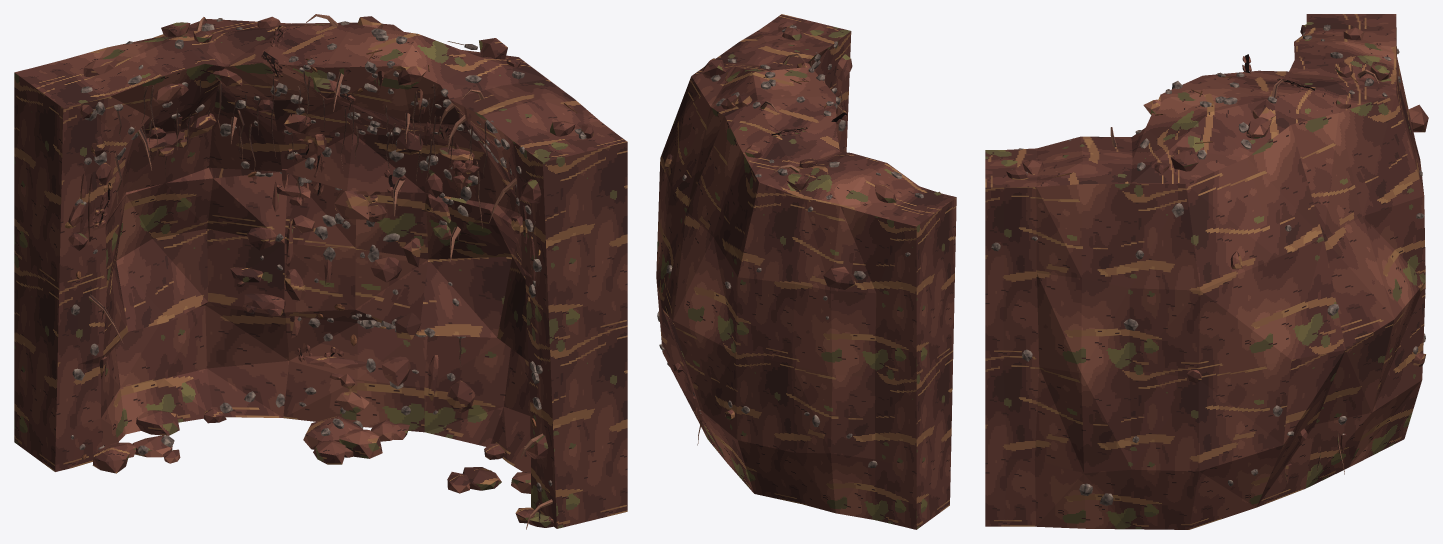
Rendered from SM_AN02_EarthCorner.fbx.
The picture shows the model from 3 angles, left to right: view 1: azimuth 30°, elevation 25°; view 2: azimuth 150°, elevation 25°; view 3: azimuth 270°, elevation 25°; orthographic projection. The views are drawn at different scales.
Visible parts, largest first — view 1: AN02a_Earth, AN02a_Props, AN02a_Root; view 2: AN02a_Earth, AN02a_Props, AN02a_Root; view 3: AN02a_Earth, AN02a_Props.
Boxes of the visible parts, x1=… form: AN02a_Earth: x1=14, y1=16, x2=627, y2=528; AN02a_Props: x1=65, y1=18, x2=586, y2=491; AN02a_Root: x1=88, y1=14, x2=552, y2=529; AN02a_Earth: x1=656, y1=14, x2=956, y2=529; AN02a_Props: x1=657, y1=25, x2=923, y2=468; AN02a_Root: x1=697, y1=54, x2=846, y2=445; AN02a_Earth: x1=985, y1=14, x2=1428, y2=529; AN02a_Props: x1=991, y1=24, x2=1425, y2=505.
Bounding box in the file's own units: 4.75 × 4.49 × 4.75.
